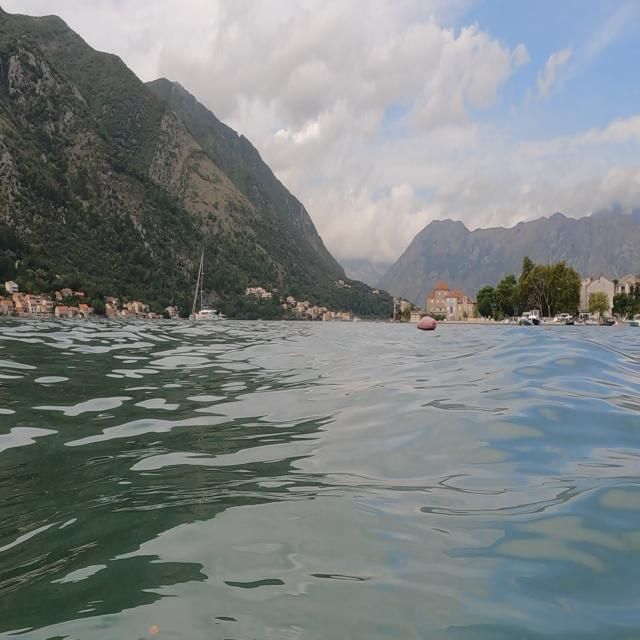boat: (187, 240, 220, 324)
buoy: (412, 312, 440, 339)
